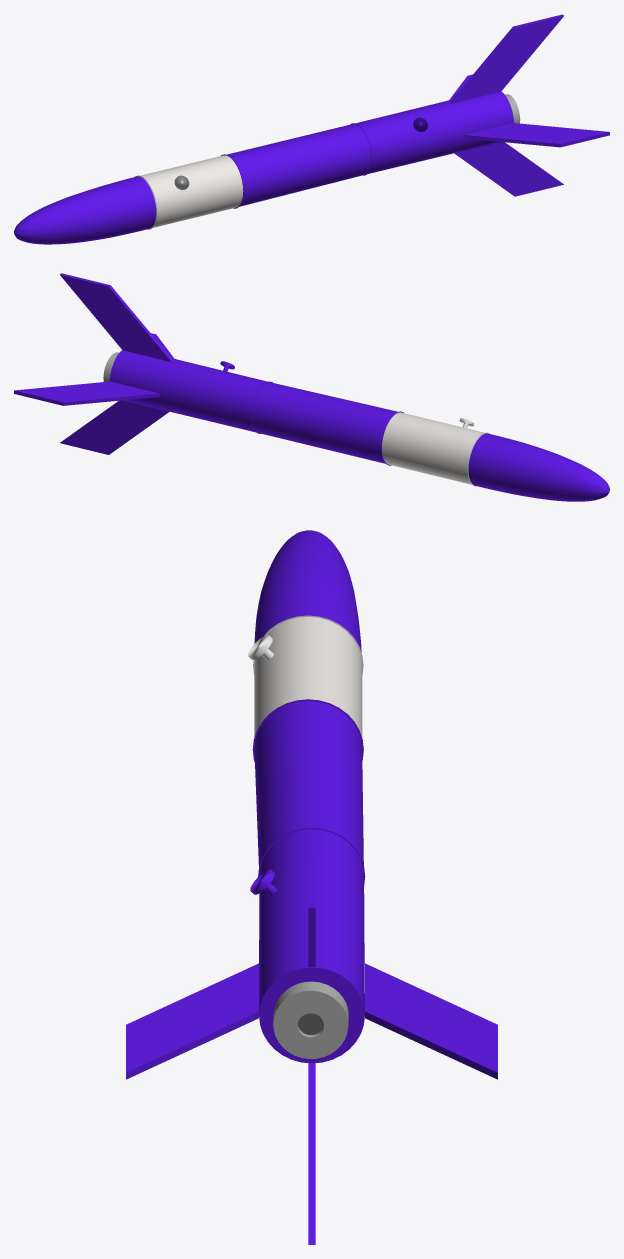
The model's file is rocket6.gltf.
The picture shows the model from 3 angles, top to bottom: view 1: azimuth 30°, elevation 25°; view 2: azimuth 150°, elevation 25°; view 3: azimuth 270°, elevation 25°; orthographic projection. The views are drawn at different scales.
Visible parts, largest first — view 1: trup, finy; view 2: trup, finy; view 3: trup, finy, motor.
Part boxes in pixels (x1,y1,x2,y2): trup: (14, 91, 513, 244); finy: (449, 14, 609, 196); trup: (109, 350, 609, 501); finy: (14, 273, 174, 454); trup: (252, 530, 365, 1063); finy: (126, 859, 497, 1244); motor: (273, 981, 348, 1058).
Size of the model in its own units: 0.6668 by 0.1958 by 0.1958.
